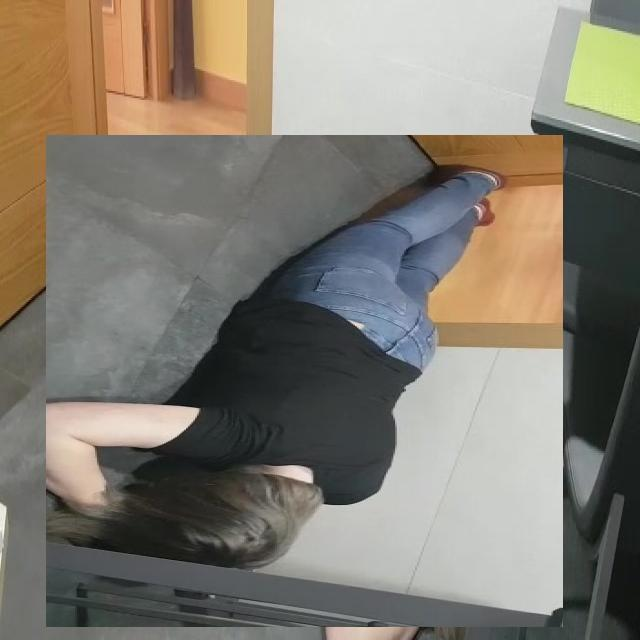Fall: (69, 130, 523, 532)
